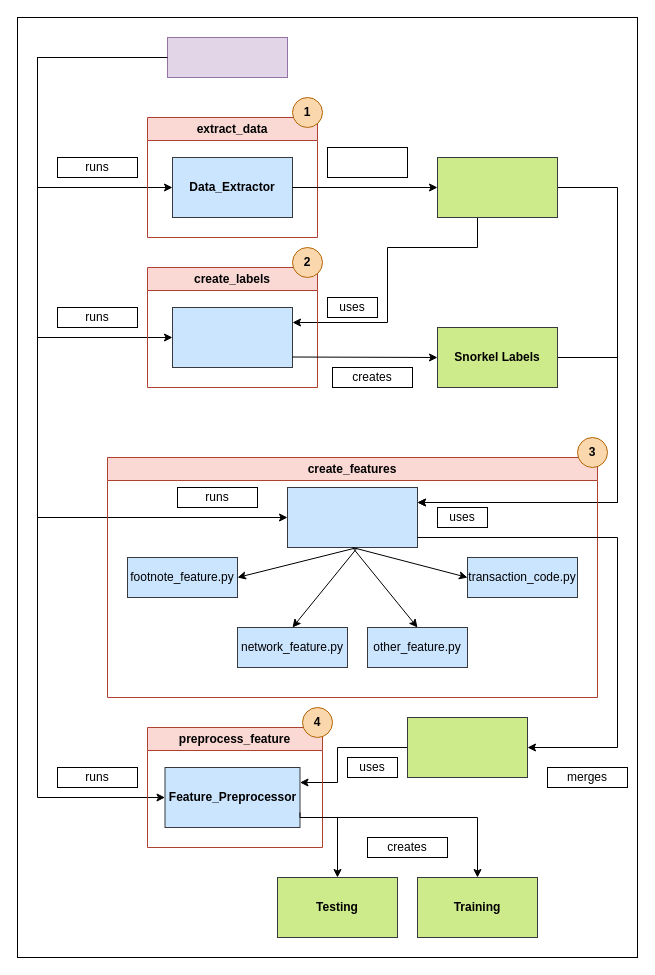
This 655x975 diagram has some shape labels left out. The shapes that lost their labels are listed below. From the top down, each one's centre as x and y in pixels, then its label:
(x=227, y=57): main.ipynb
(x=367, y=162): extracts and merges
(x=497, y=187): Merged Form 4 Data
(x=232, y=337): Label_Data_Creator
(x=352, y=517): Feature_Data_Creator
(x=467, y=747): Full features
